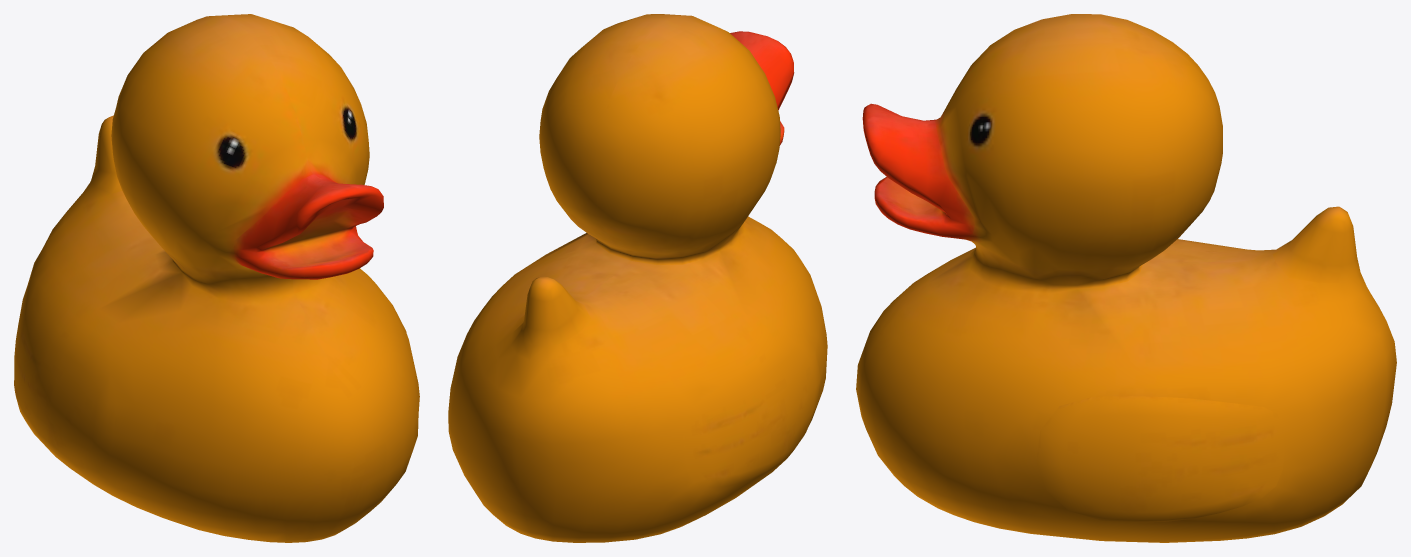
File: rubber_duck_toy.glb
The picture shows the model from 3 angles, left to right: view 1: azimuth 30°, elevation 25°; view 2: azimuth 150°, elevation 25°; view 3: azimuth 270°, elevation 25°; orthographic projection. The views are drawn at different scales.
Parts seen in each view (by area): view 1: rubber_duck_toy; view 2: rubber_duck_toy; view 3: rubber_duck_toy.
Part boxes in pixels (x1,y1,x2,y2): rubber_duck_toy: [14, 14, 419, 542]; rubber_duck_toy: [448, 14, 827, 542]; rubber_duck_toy: [856, 14, 1396, 542].
Bounding box in the file's own units: 0.2135 × 0.2853 × 0.3.
Materials: 1 (1 with a texture image).
